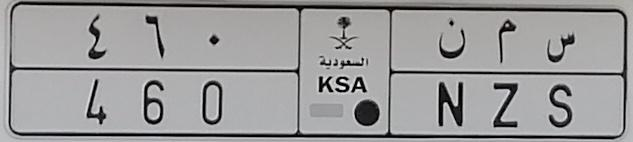0: (200, 32, 226, 125)
4: (86, 12, 110, 125)
6: (140, 14, 169, 127)
N: (434, 18, 467, 130)
Z: (489, 19, 525, 130)
